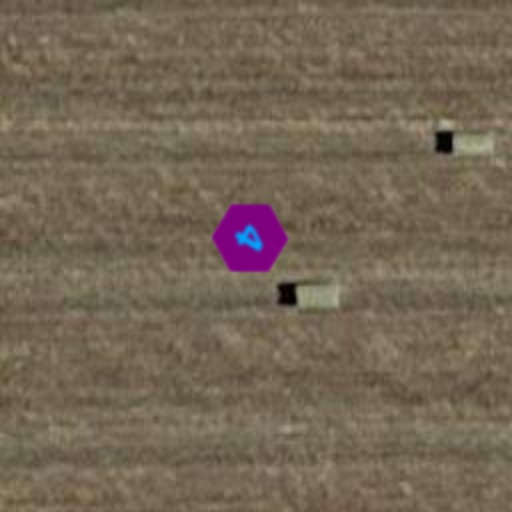hexagon: (196, 184, 304, 292)
